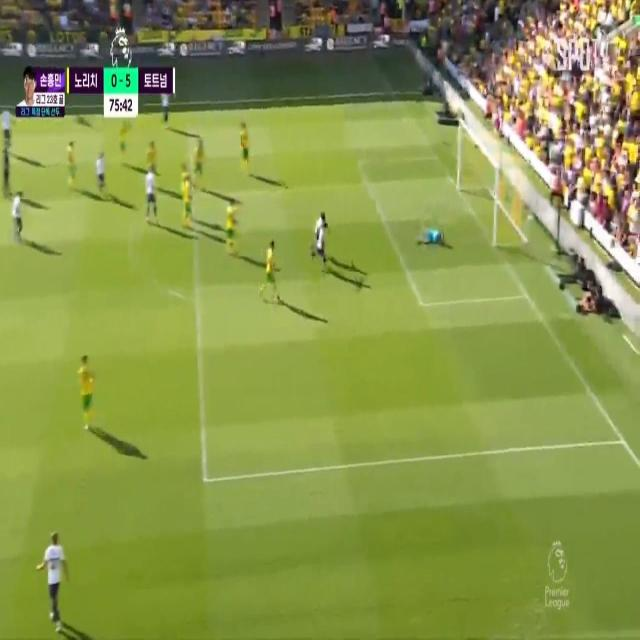player: (41, 529, 68, 635), (73, 346, 97, 429), (220, 197, 240, 257), (93, 148, 112, 201), (262, 239, 278, 301), (236, 119, 253, 173), (9, 189, 27, 239), (65, 136, 81, 190), (143, 165, 159, 219), (0, 106, 19, 151), (314, 212, 330, 265), (178, 165, 192, 225), (193, 136, 207, 182), (116, 117, 130, 161), (158, 91, 174, 126), (312, 205, 328, 235), (144, 135, 160, 163)
referee: (0, 152, 16, 196)
